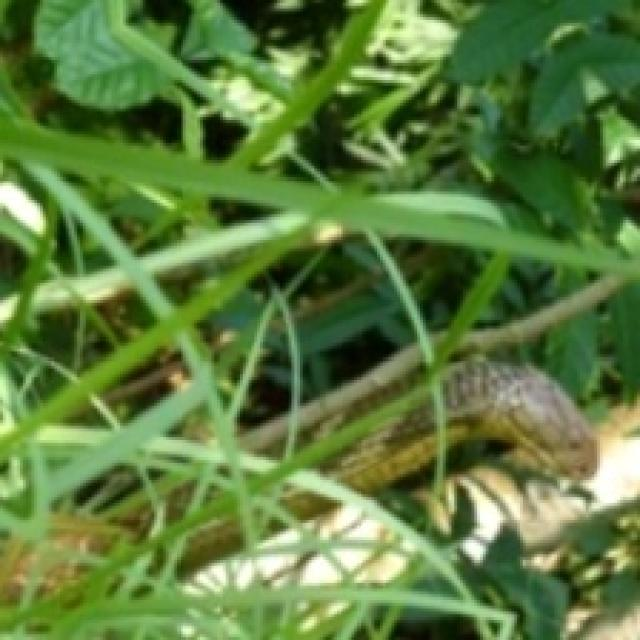king cobra: (0, 360, 594, 637)
